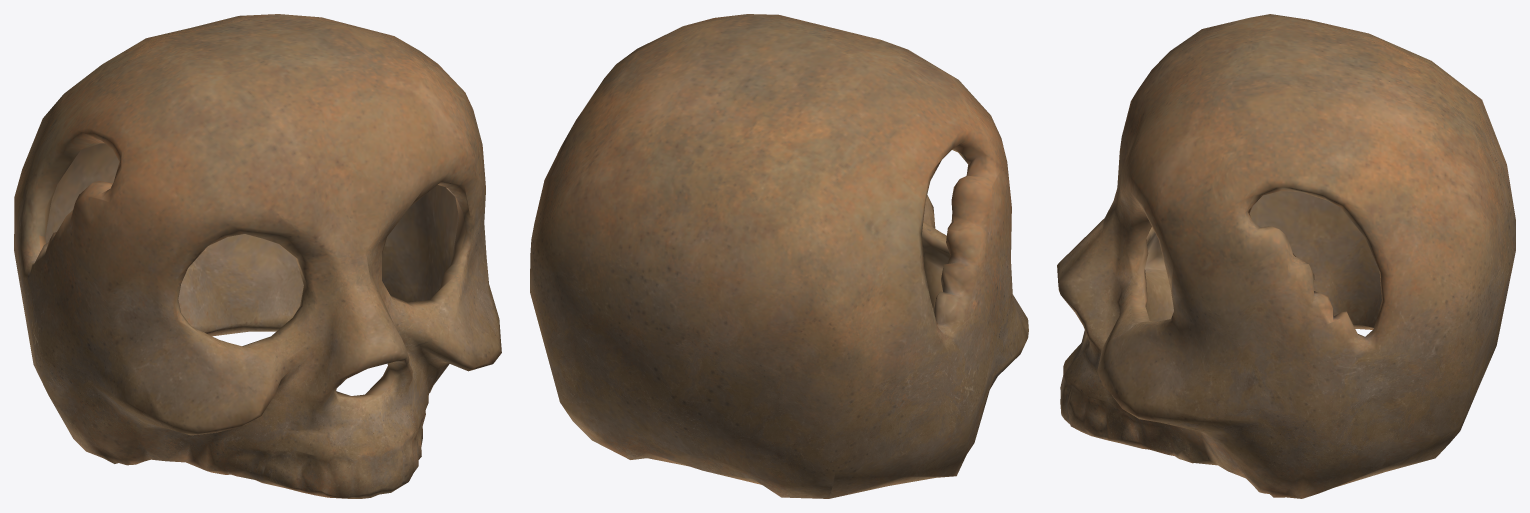
Rendered from craneo.gltf.
The picture shows the model from 3 angles, left to right: view 1: azimuth 30°, elevation 25°; view 2: azimuth 150°, elevation 25°; view 3: azimuth 270°, elevation 25°; orthographic projection. The views are drawn at different scales.
Parts seen in each view (by area): view 1: Craneo; view 2: Craneo; view 3: Craneo.
Part boxes in pixels (left/top/right/bottom): Craneo: left=14, top=14, right=501, bottom=498; Craneo: left=530, top=14, right=1028, bottom=498; Craneo: left=1057, top=14, right=1515, bottom=498.
Size of the model in its own units: 21.16 by 18.63 by 20.83.
1 material, 1 textured.
